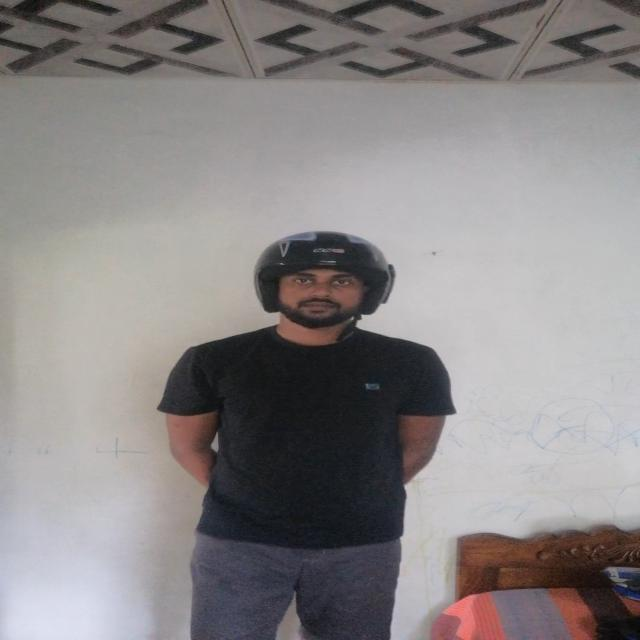Helmet_Wearer: (220, 227, 432, 360)
Person: (155, 229, 452, 640)
